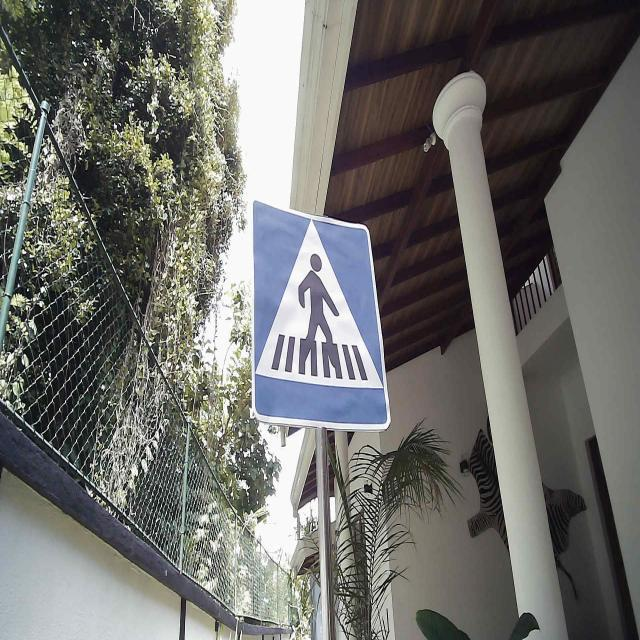crosswalk_sign: (249, 194, 393, 434)
